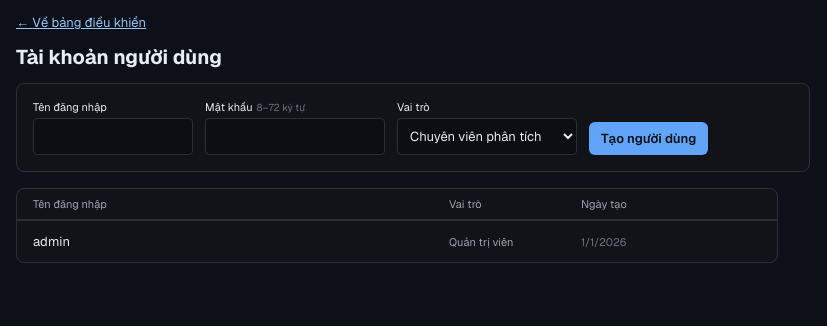
AdminUsersPage › names the duplicate case rather than showing a generic failure
Expected: the text "admin" is shown, [33,233,70,250]
Step 1. Type "admin" into the field labelled "Tên đăng nhập" → (113, 137), box [33,118,193,155]
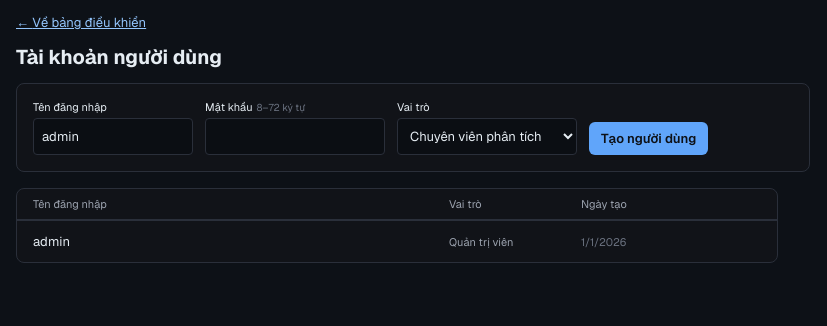
Step 2. Type "password123" into the password field labelled "Mật khẩu 8–72 ký tự" → (295, 137), box [205,118,385,155]
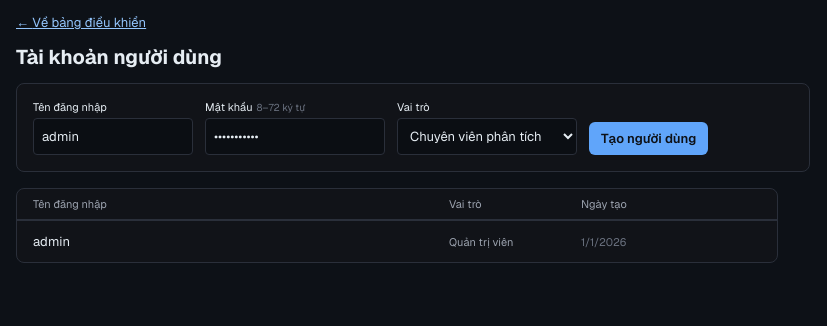
Step 3. Click the button "Tạo người dùng" → (649, 139), box [589,122,708,155]
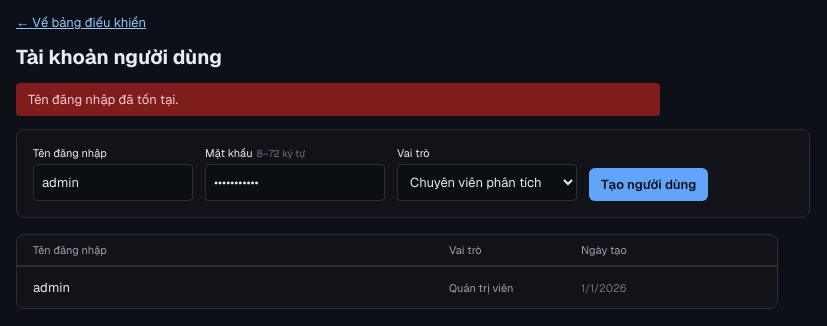
Expected: the text "Tên đăng nhập đã tồn tại." is shown, [16,83,660,116]
